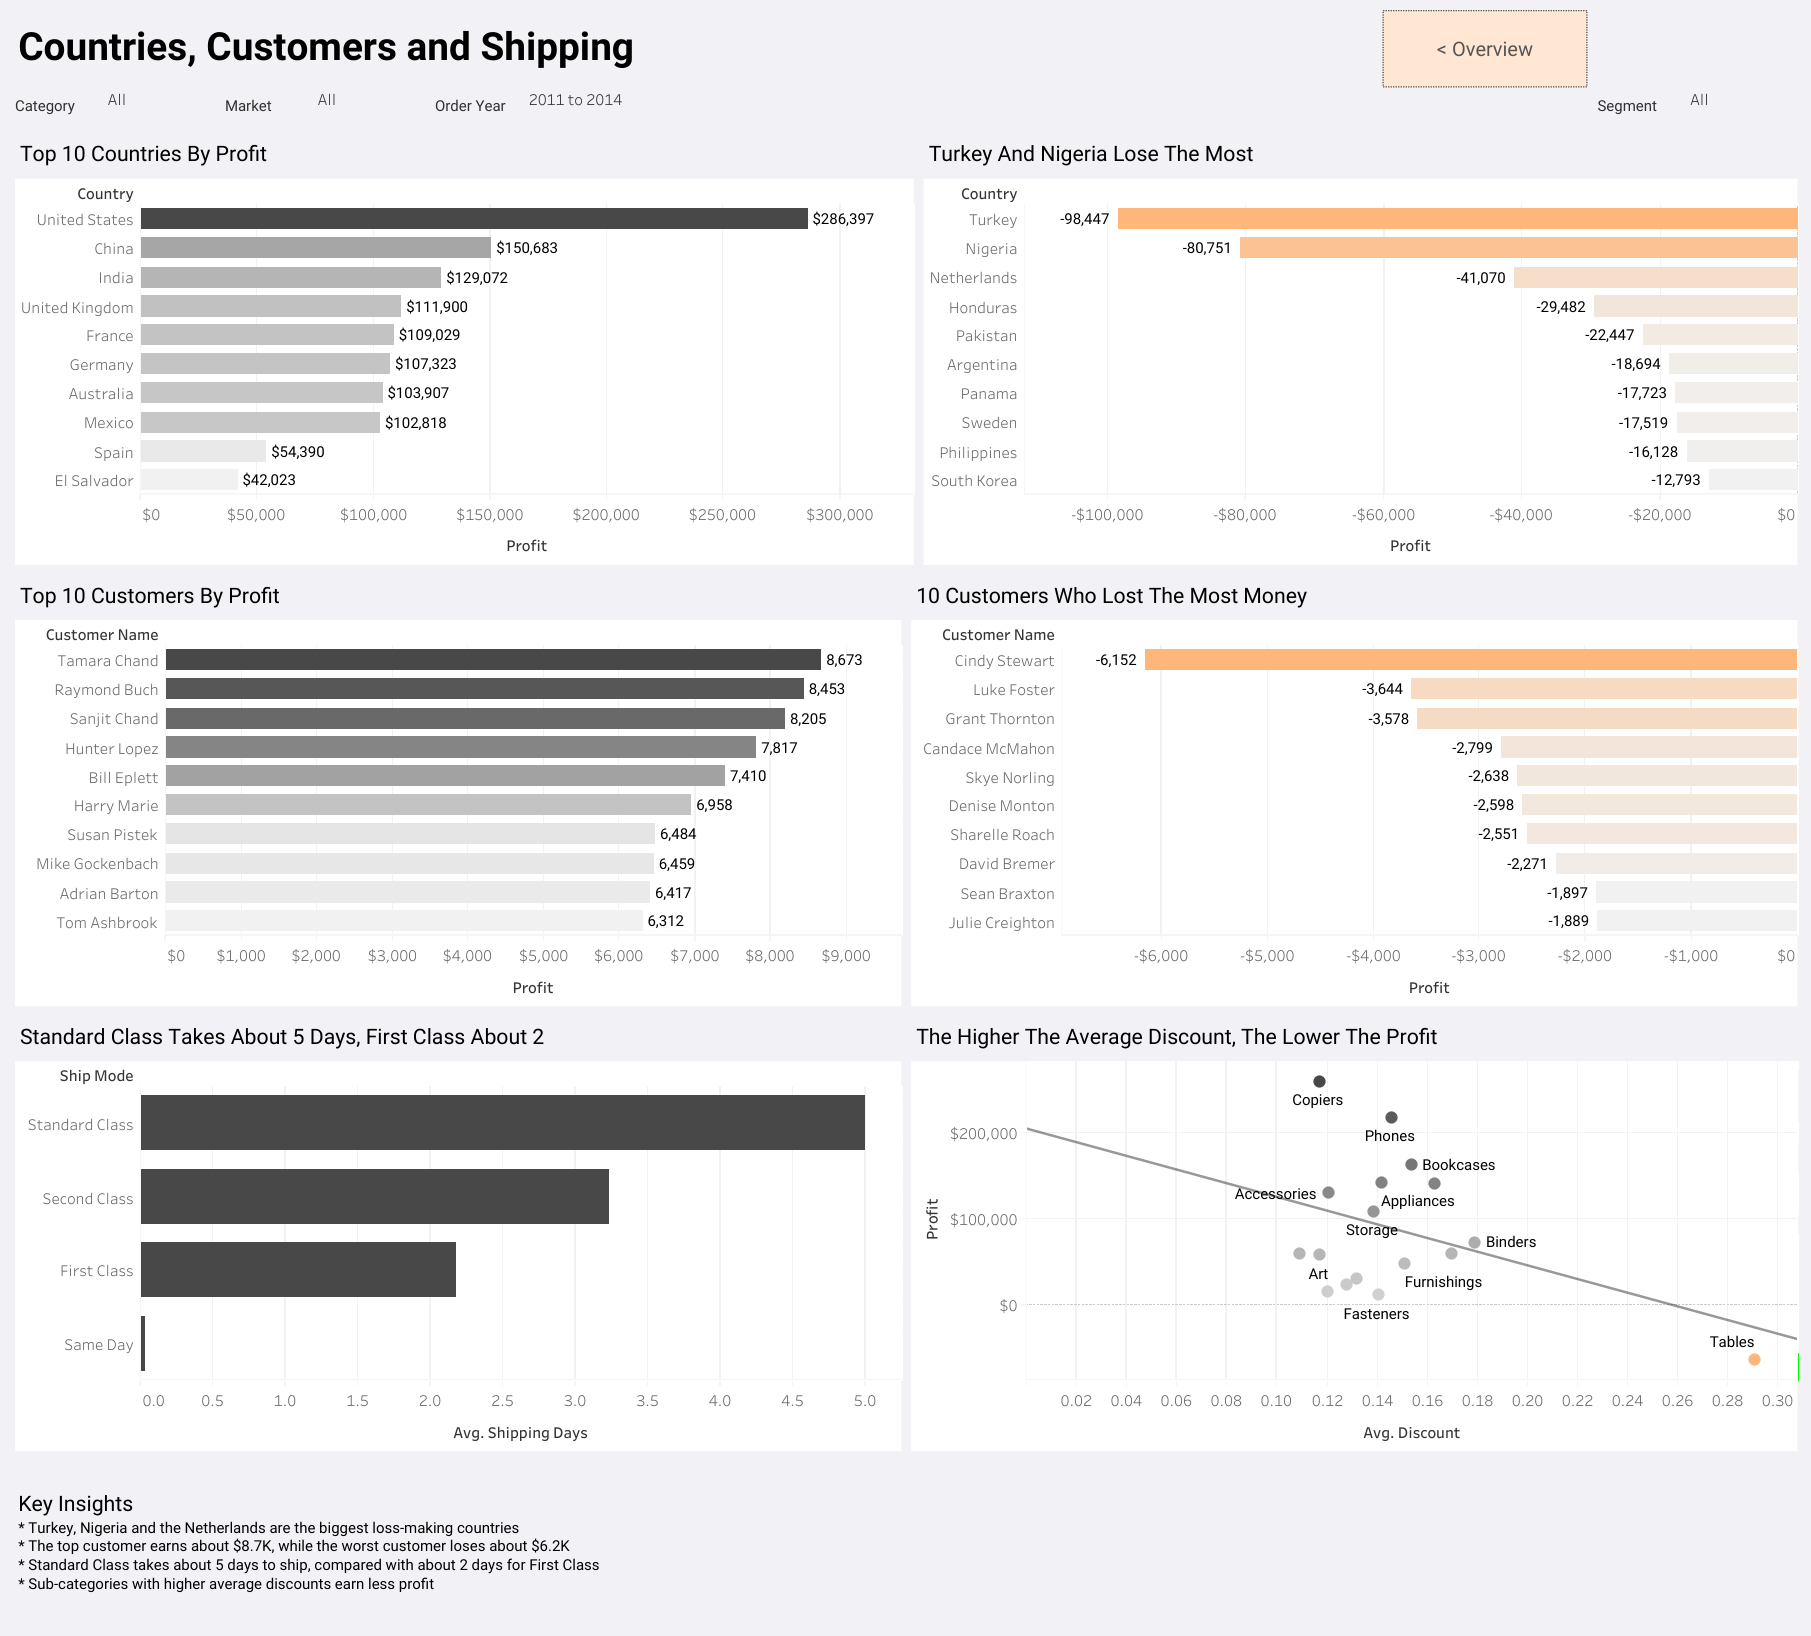

This screenshot's page, from the dashboard's own definition file:
{"tool":"tableau","page":{"name":"Deep Dive","canvas":[1450,1310],"ordinal":0},"visuals":[{"type":"title","box":[8,8,1434,58]},{"type":"dashboard-object","box":[1106,8.3,164,61.9]},{"type":"filter","title":"Country Bars(Top 10)","param":"[federated.02n3qql18poff212zbrag11mg8hr].[none:category:nk]","box":[8,66,168,37]},{"type":"filter","title":"Country Bars(Top 10)","param":"[federated.02n3qql18poff212zbrag11mg8hr].[none:market:nk]","box":[176,66,168,37]},{"type":"filter","title":"Country Bars(Top 10)","param":"[federated.02n3qql18poff212zbrag11mg8hr].[none:order_year:qk]","box":[344,66,930,37]},{"type":"filter","title":"Country Bars(Top 10)","param":"[federated.02n3qql18poff212zbrag11mg8hr].[none:segment:nk]","box":[1274,66,168,37]},{"type":"worksheet","title":"Country Bars(Top 10)","mark":"Automatic","rows":["country"],"cols":["profit"],"box":[8,103,727,352.9]},{"type":"worksheet","title":"Country Bars(Bottom 10)","mark":"Automatic","rows":["country"],"cols":["profit"],"box":[735,103,707,352.9]},{"type":"worksheet","title":"Top Customers","mark":"Automatic","rows":["customer_name"],"cols":["profit"],"box":[8,456,717,353]},{"type":"worksheet","title":"Loss Customers","mark":"Automatic","rows":["customer_name"],"cols":["profit"],"box":[725,456,717,353]},{"type":"worksheet","title":"Shipping","mark":"Automatic","rows":["ship_mode"],"cols":["shipping_days"],"box":[8,809,717,355.9]},{"type":"worksheet","title":"Discount Scatter","mark":"Automatic","rows":["profit"],"cols":["discount"],"box":[725,809,717,355.9]},{"type":"text","box":[8,1164.9,1434,137.1]}]}

Visuals, with their boxes in screenshot pixels (x1, y1, x2, y2), scaled from the page's 1450x1310 canvas onto the 1811x1636 screenshot:
title: (10, 10, 1801, 82)
dashboard-object: (1381, 10, 1586, 88)
"Country Bars(Top 10)" filter: (10, 82, 220, 129)
"Country Bars(Top 10)" filter: (220, 82, 430, 129)
"Country Bars(Top 10)" filter: (430, 82, 1591, 129)
"Country Bars(Top 10)" filter: (1591, 82, 1801, 129)
"Country Bars(Top 10)" worksheet: (10, 129, 918, 569)
"Country Bars(Bottom 10)" worksheet: (918, 129, 1801, 569)
"Top Customers" worksheet: (10, 569, 906, 1010)
"Loss Customers" worksheet: (906, 569, 1801, 1010)
"Shipping" worksheet: (10, 1010, 906, 1455)
"Discount Scatter" worksheet: (906, 1010, 1801, 1455)
text: (10, 1455, 1801, 1626)
